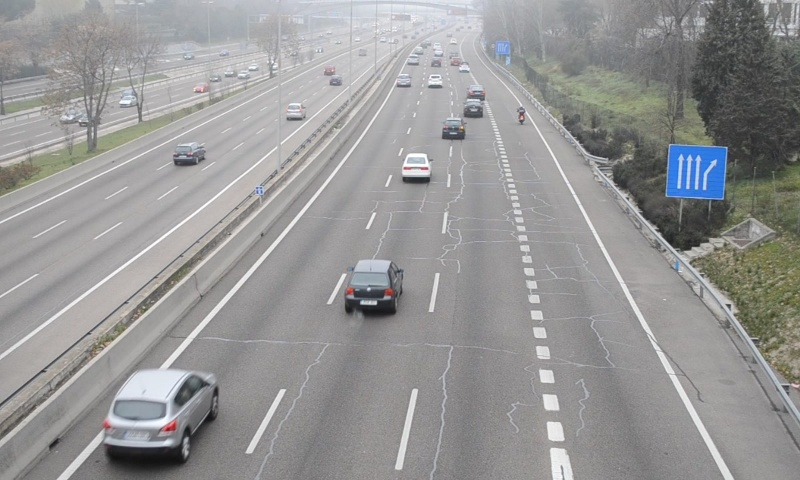car: (102, 370, 220, 453), (344, 259, 404, 312), (402, 152, 432, 178), (442, 117, 465, 138), (463, 98, 484, 118), (467, 84, 486, 100), (426, 73, 444, 88), (396, 72, 412, 88)
motorcycle: (516, 105, 526, 126)
